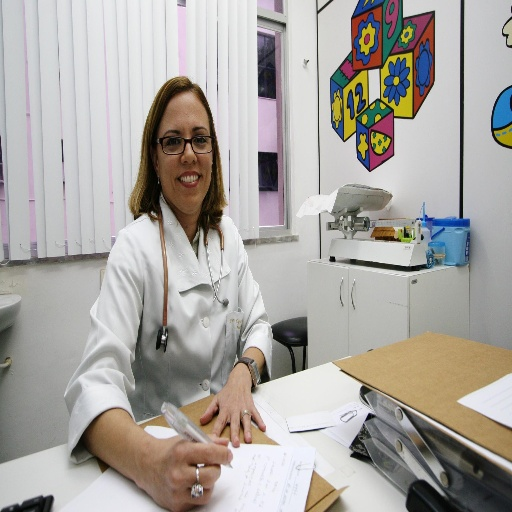hand: (119, 420, 232, 498), (198, 381, 267, 448)
